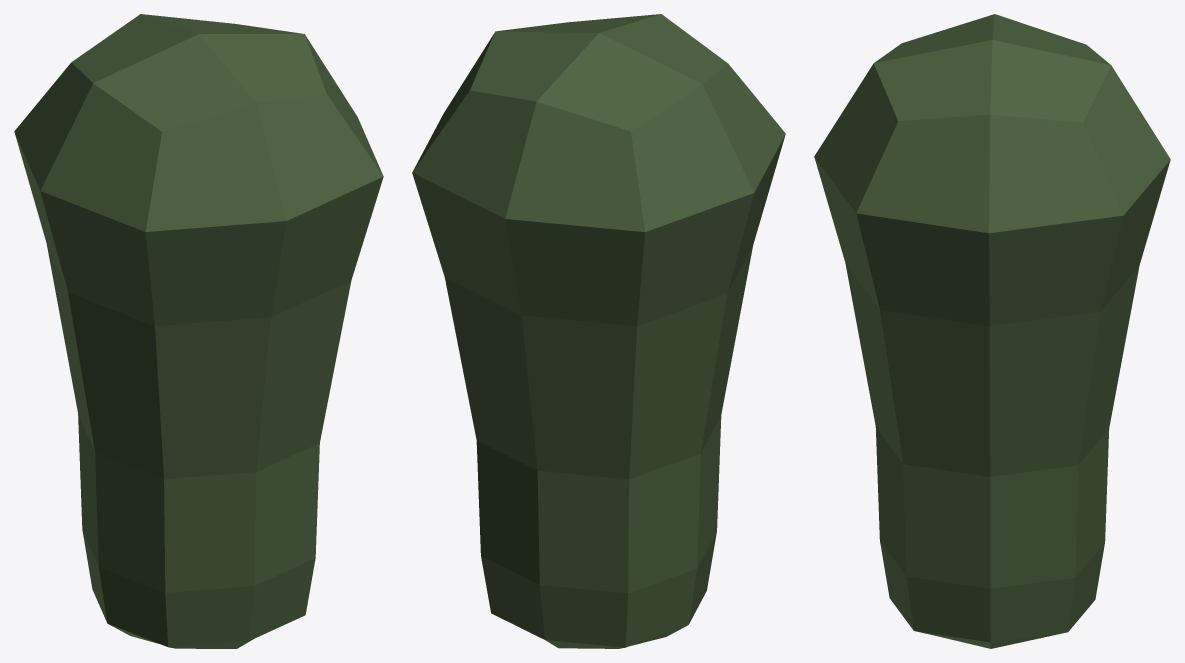
File: Cactus_1.glb
The picture shows the model from 3 angles, left to right: view 1: azimuth 30°, elevation 25°; view 2: azimuth 150°, elevation 25°; view 3: azimuth 270°, elevation 25°; orthographic projection.
Parts seen in each view (by area): view 1: Cactus_1_Cube.009; view 2: Cactus_1_Cube.009; view 3: Cactus_1_Cube.009.
Part boxes in pixels (x1,y1,x2,y2): Cactus_1_Cube.009: (14,14,383,648); Cactus_1_Cube.009: (412,14,785,648); Cactus_1_Cube.009: (814,14,1170,648).
Bounding box in the file's own units: 0.0927 × 0.167 × 0.0927.
